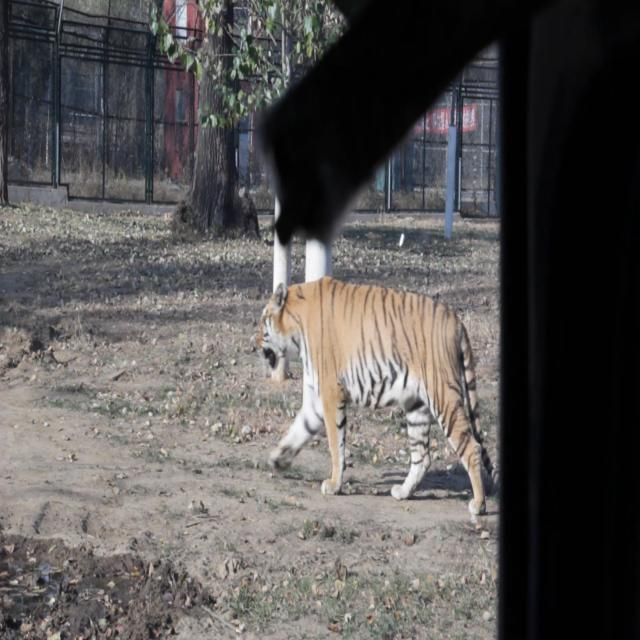Tiger: (232, 264, 499, 518)
